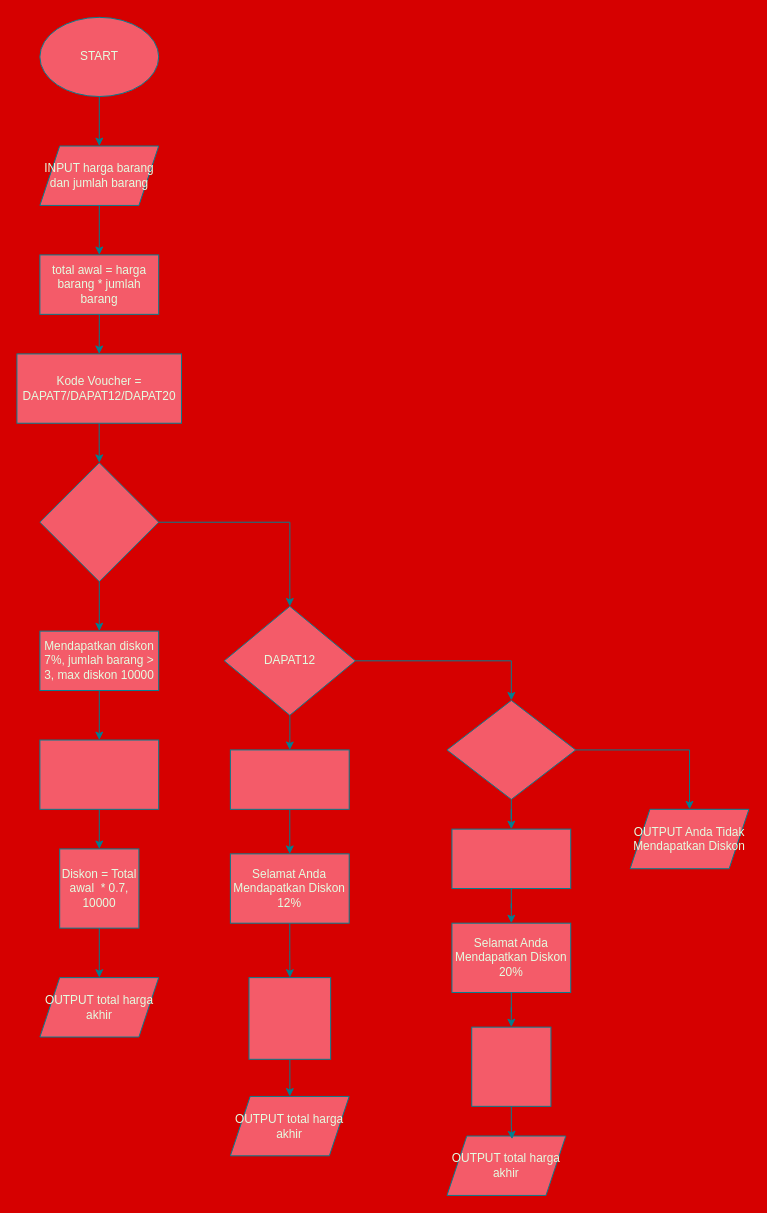
The diagram is 767 pixels wide and 1213 high, and some of its shapes have lost their labels. Each missing label, with the centre of its shape:
DAPAT20: the point at 511,749
DAPAT7: the point at 99,522
Diskon = Total awal * 0.12, 15000: the point at 289,1018
Diskon = Total awal * 0.20, 30000: the point at 511,1066
Mendapatkan diskon 12%, jumlah barang > 7, max diskon 15000: the point at 289,779
Mendapatkan diskon 20%, jumlah barang > 15, max diskon 30000: the point at 511,858
Selamat Anda Mendapatkan Diskon 7%: the point at 99,774
